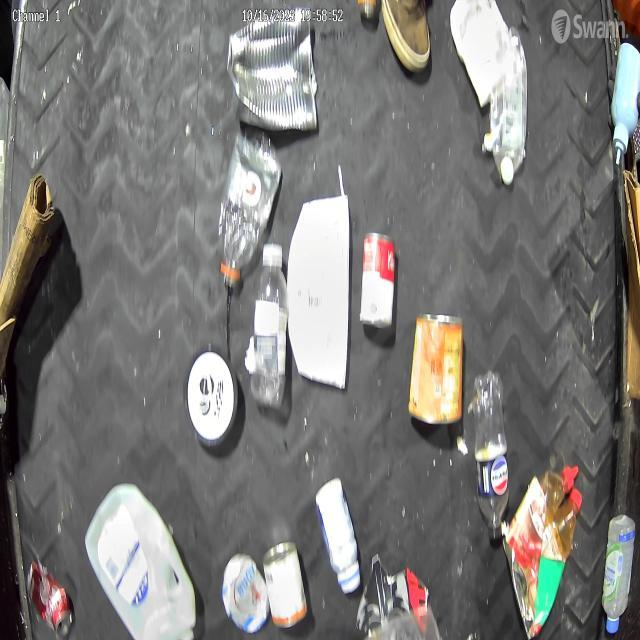can: (224, 5, 318, 134), (408, 304, 466, 434), (260, 538, 311, 639), (25, 550, 75, 640), (358, 227, 398, 333)
milk_jug: (82, 473, 202, 640)
plastic_bottle: (218, 129, 282, 304), (465, 370, 511, 548), (250, 245, 294, 408), (486, 32, 528, 190), (602, 511, 634, 634)
